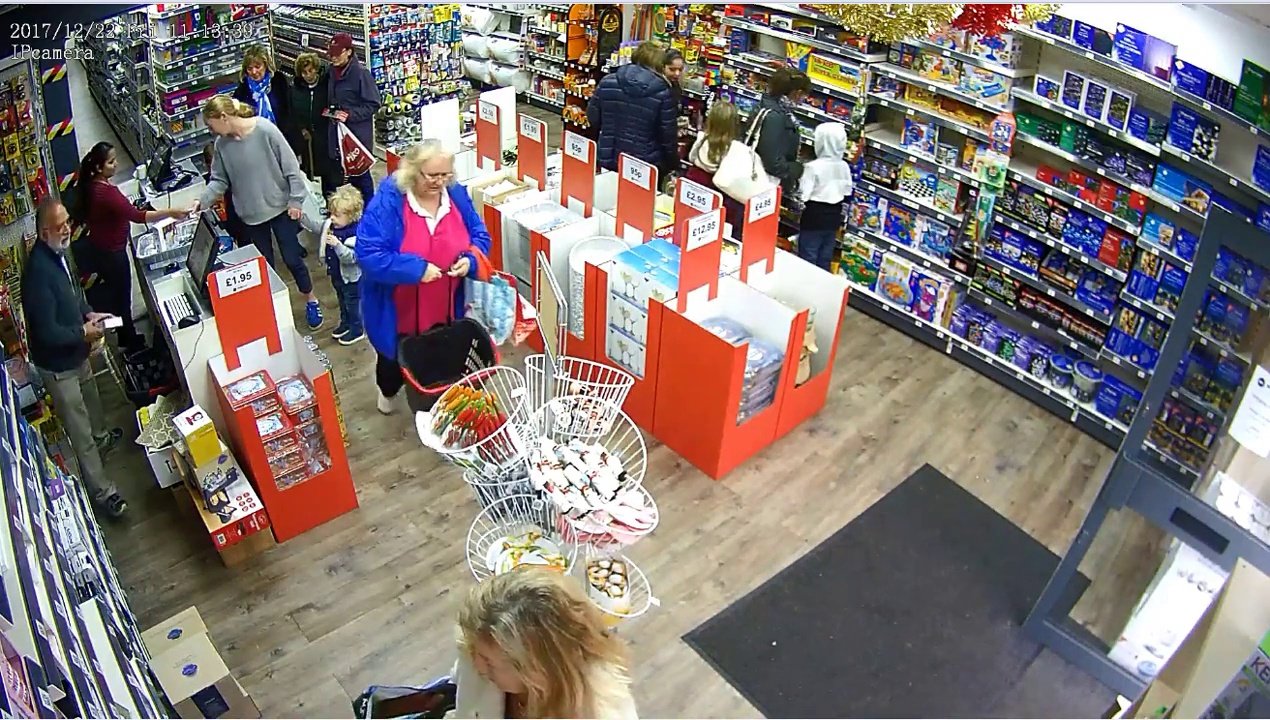face: (414, 159, 448, 195), (294, 60, 322, 86), (246, 58, 266, 85), (662, 55, 684, 79)
